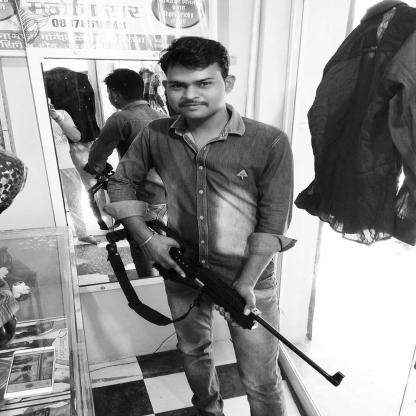rifle: (103, 218, 347, 389)
